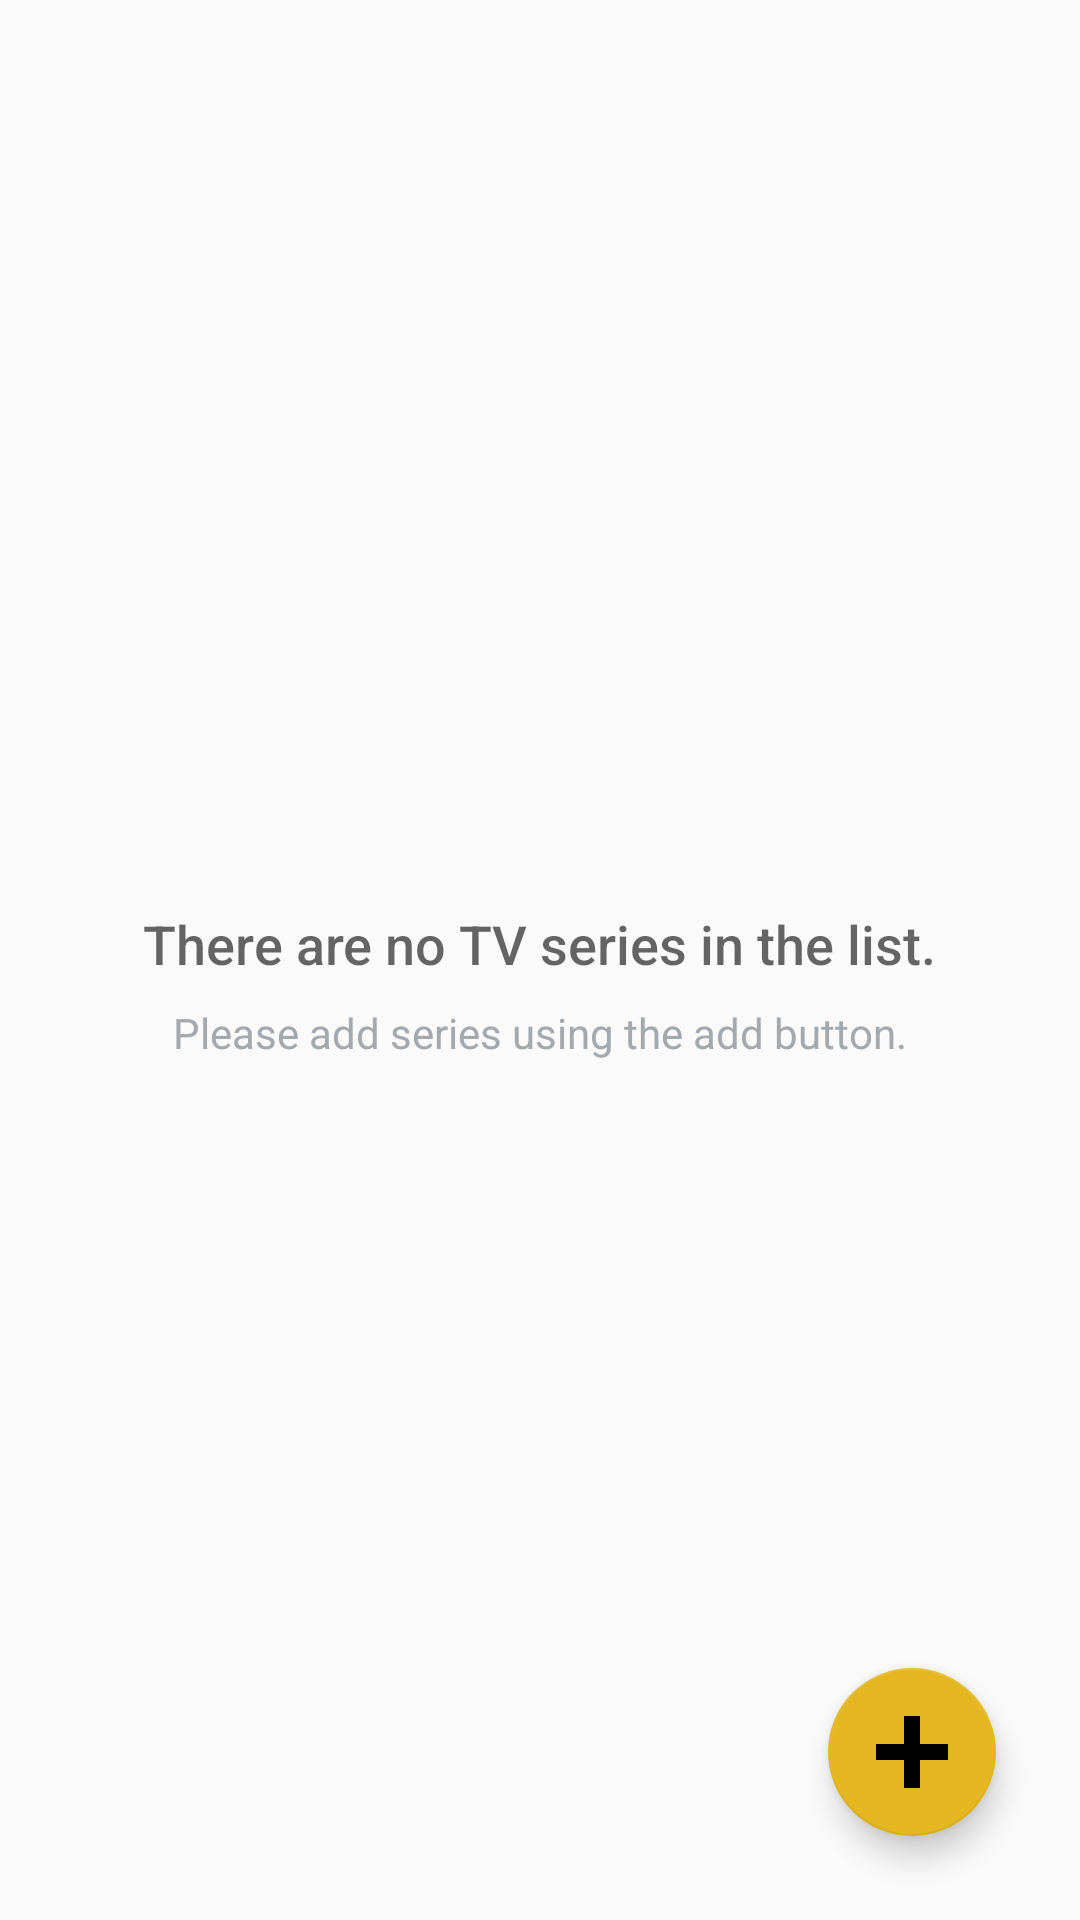

Named icons in this screenshot (1080×1920) and their centers, point (x, y):
plus sign: point (912, 1752)
